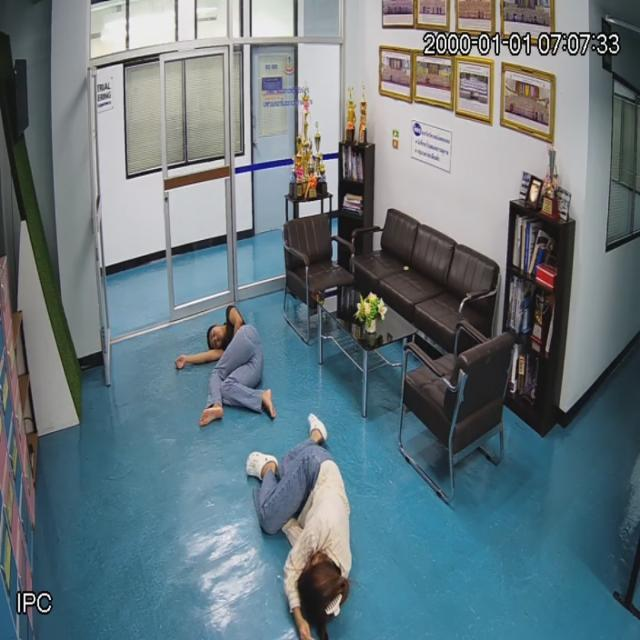fall: (252, 407, 357, 640), (199, 297, 276, 425)
